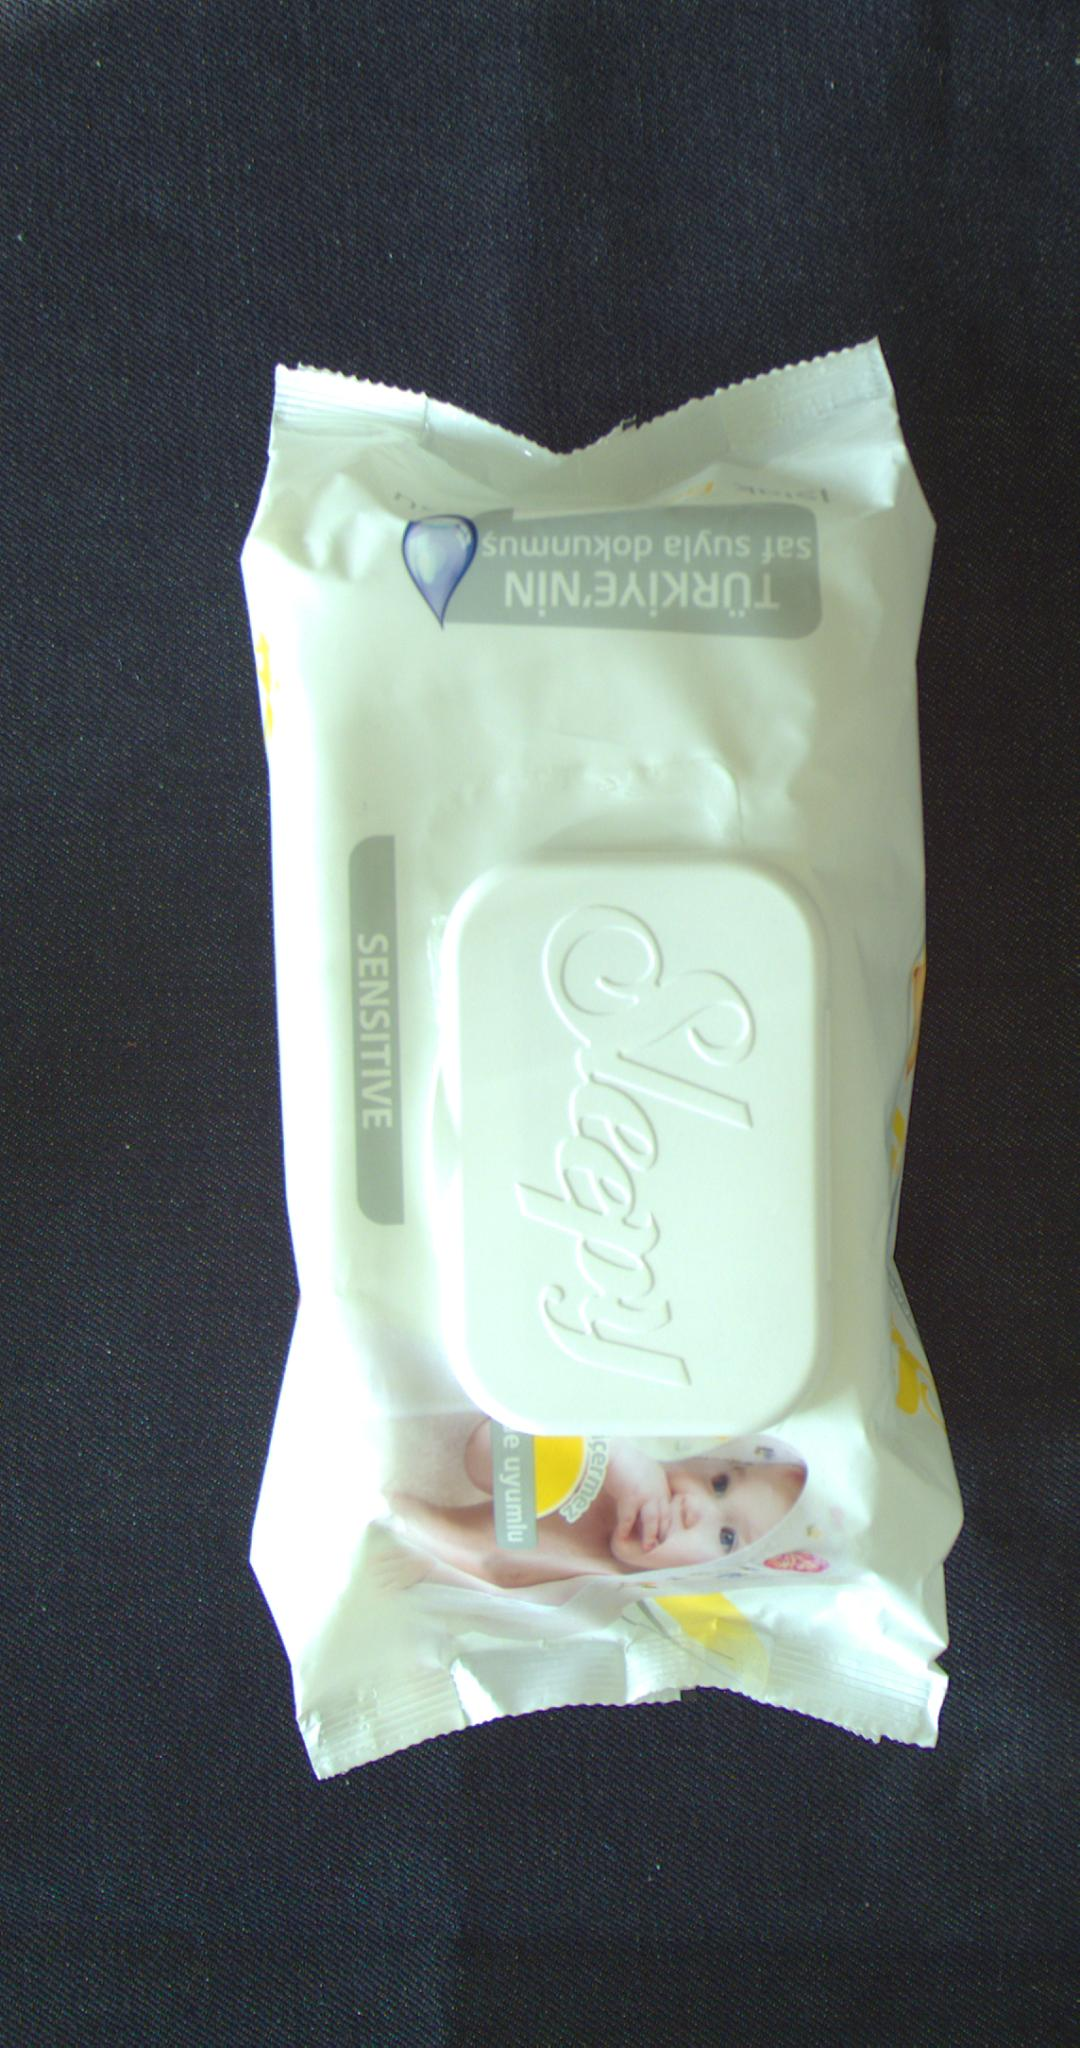kapak: (431, 856, 824, 1434)
